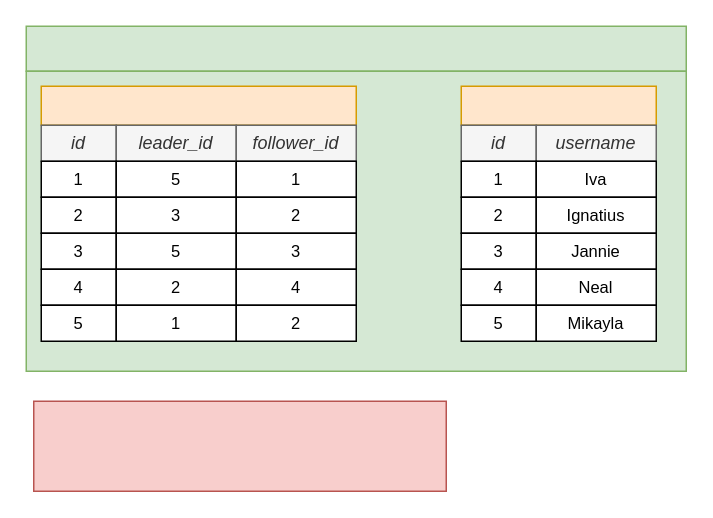
Image size: 713x518. Some labels were removed from this diagram. Here are the shapes that lost their labels. From the top down, the box of each, then its label:
(25, 25, 686, 71): Database
(40, 85, 356, 125): followers
(460, 85, 656, 125): users
(32, 400, 446, 491): CHECK (leader_id <> follower_id) UNIQUE(leader_id, follower_id)
